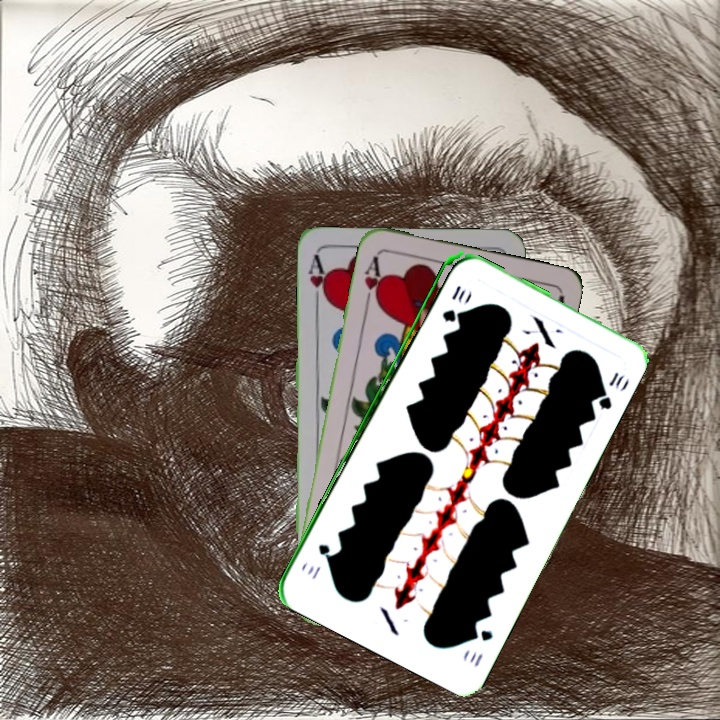G10: (466, 624, 495, 669), (438, 281, 464, 325)
HA: (304, 251, 331, 310), (359, 251, 386, 309)
